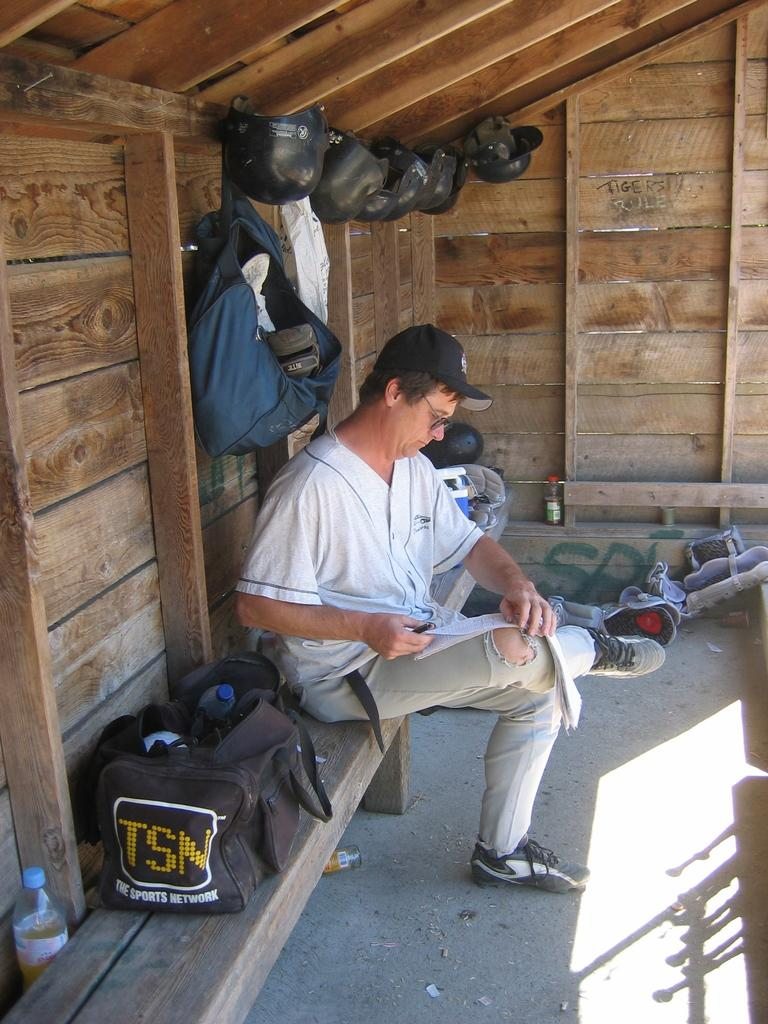Luggage-and-bags: (88, 678, 304, 940), (188, 189, 344, 454)
